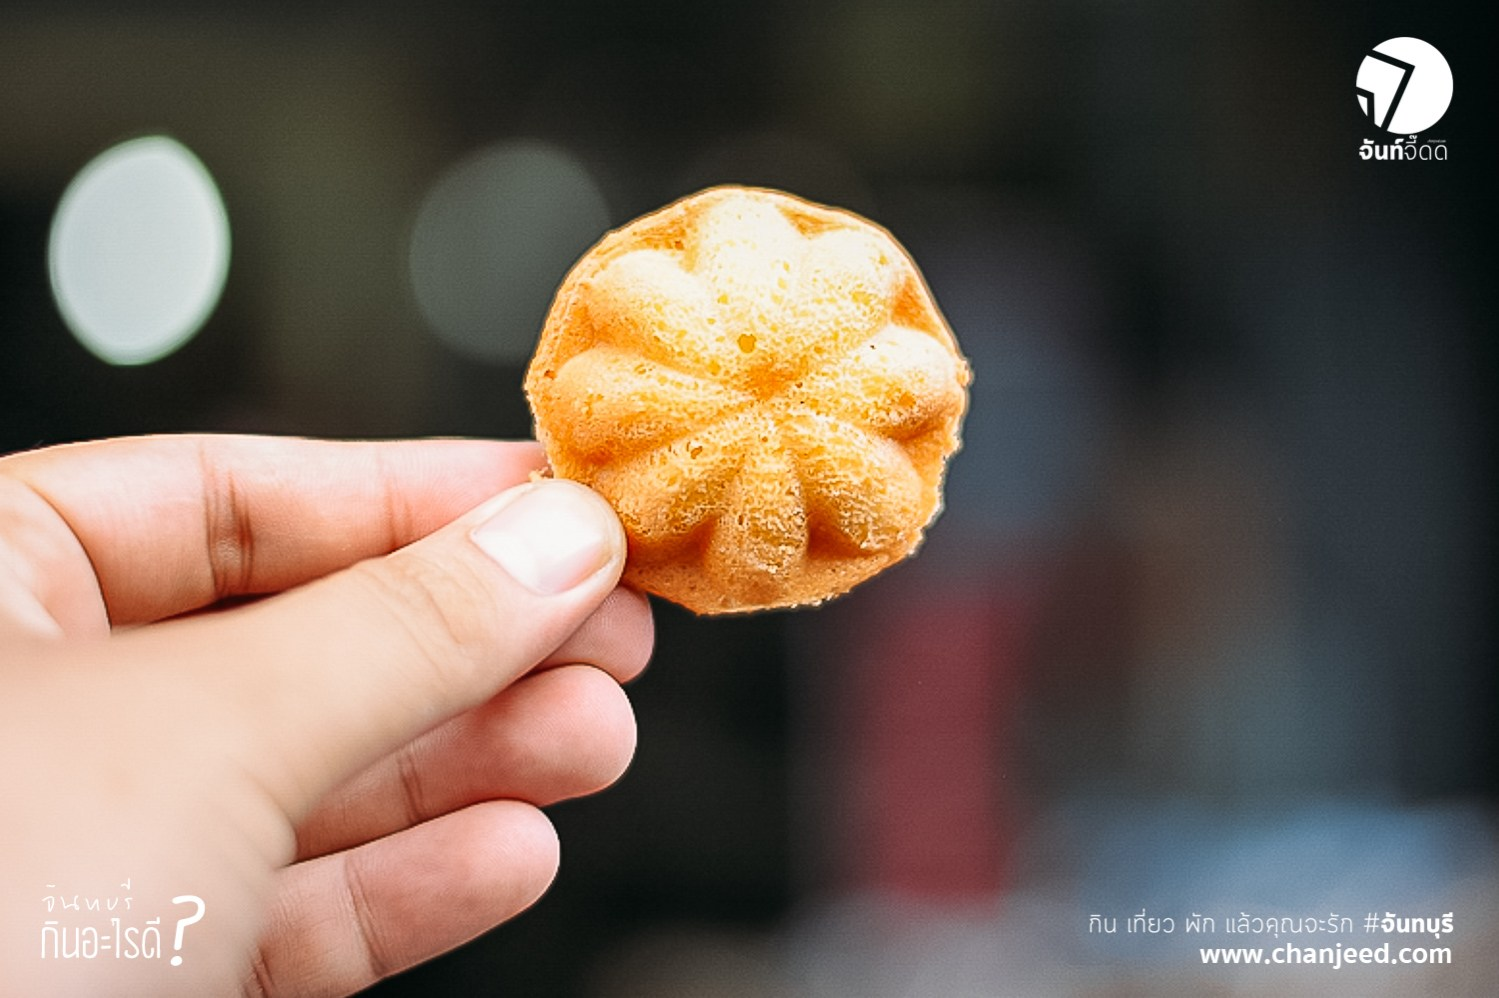kanomkai: (511, 151, 986, 657)
